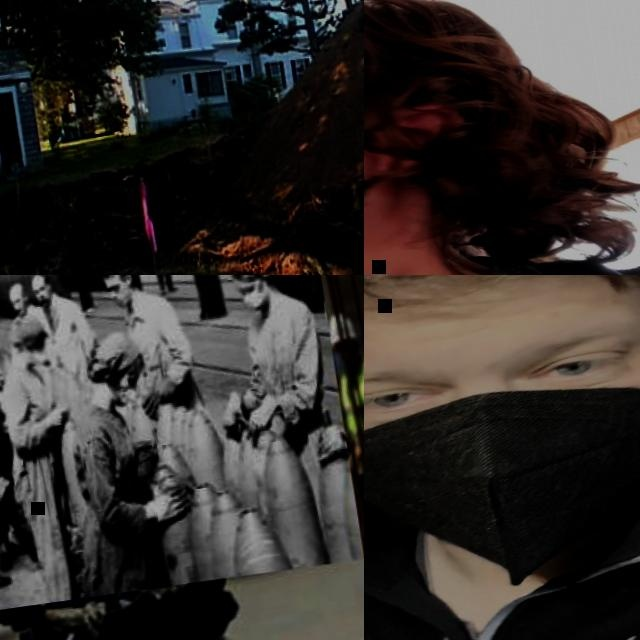Hardhat: (329, 310, 361, 348)
Mask: (364, 337, 640, 612), (113, 384, 137, 408), (242, 289, 268, 311), (334, 350, 351, 376), (30, 349, 48, 367), (111, 292, 130, 309)
NO-Hardhat: (364, 275, 640, 355), (364, 0, 511, 126), (85, 330, 146, 378), (9, 317, 51, 351), (27, 275, 51, 290), (7, 281, 26, 298)
NO-Safety Vest: (364, 412, 640, 640), (69, 402, 147, 533), (240, 301, 303, 394), (7, 358, 57, 454), (120, 298, 175, 377), (38, 301, 79, 362), (16, 307, 40, 325)
Person: (364, 275, 640, 640), (364, 0, 640, 275), (51, 323, 201, 597), (0, 318, 88, 606), (214, 275, 330, 433), (22, 574, 261, 640), (95, 275, 203, 415), (0, 290, 36, 573), (328, 310, 364, 557), (26, 275, 96, 359), (0, 310, 15, 600), (0, 280, 42, 320), (142, 275, 177, 295)
Safety Vest: (337, 364, 364, 465)
